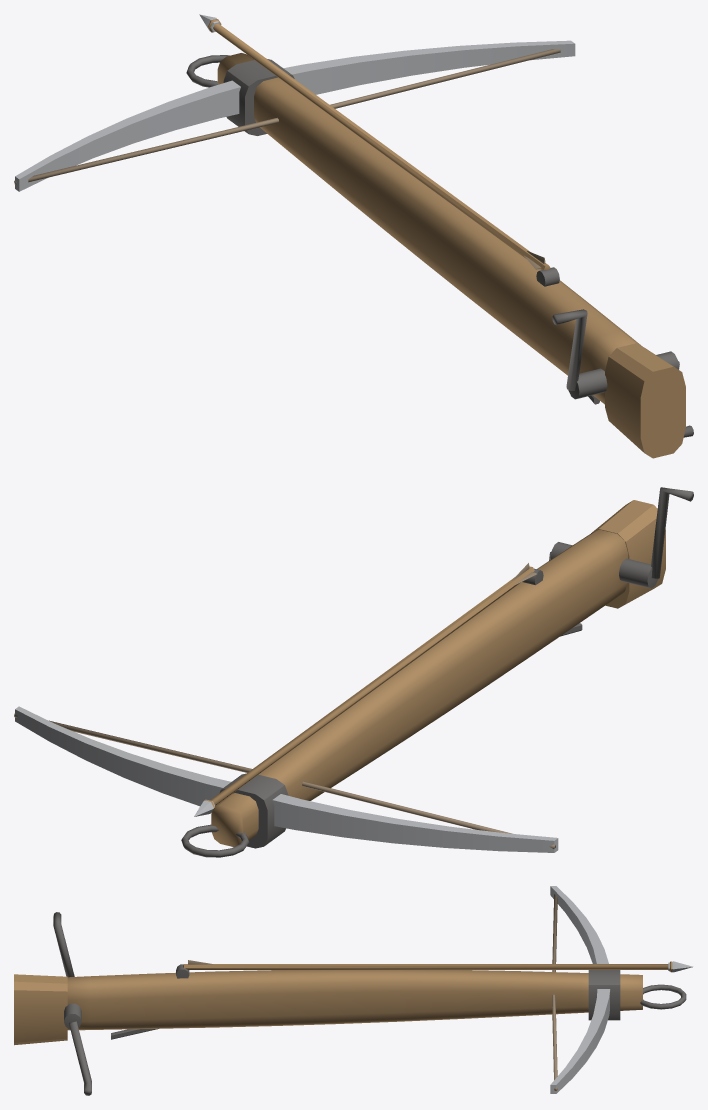
The model's file is heavy-crossbow.glb.
The picture shows the model from 3 angles, top to bottom: view 1: azimuth 30°, elevation 25°; view 2: azimuth 150°, elevation 25°; view 3: azimuth 270°, elevation 25°; orthographic projection. The views are drawn at different scales.
Parts seen in each view (by area): view 1: heavy-crossbow; view 2: heavy-crossbow; view 3: heavy-crossbow.
Boxes of the visible parts, x1,y1,x2,y2 form: heavy-crossbow: (14, 14, 693, 458); heavy-crossbow: (14, 487, 693, 857); heavy-crossbow: (14, 886, 693, 1095).
Size of the model in its own units: 1.84 by 0.5512 by 2.66.
